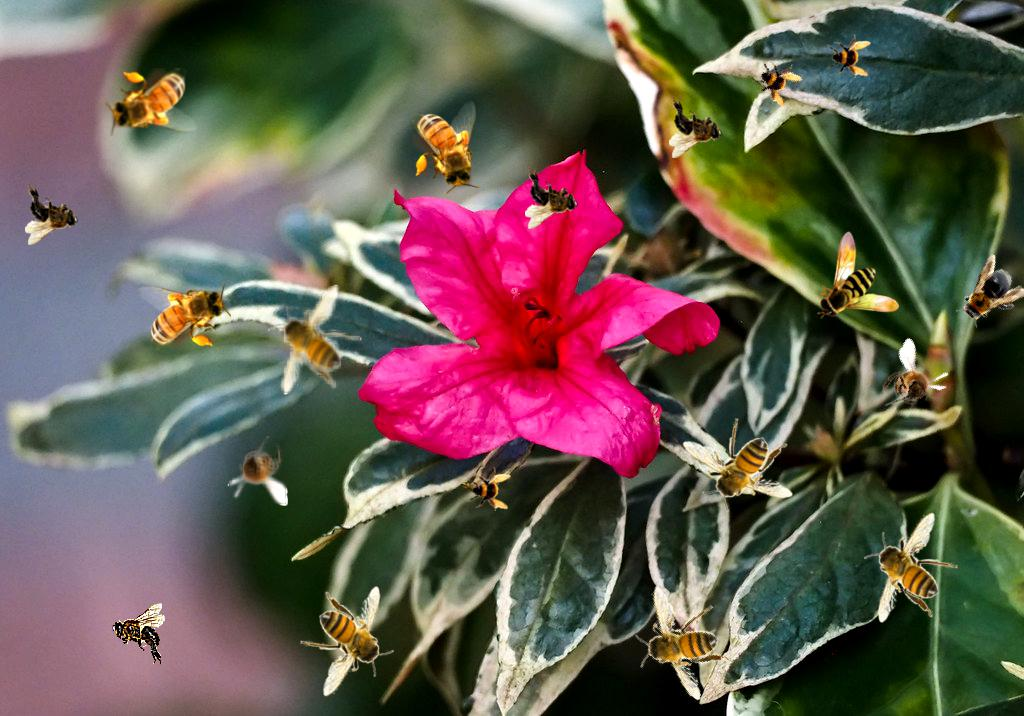Bee: (607, 567, 754, 713), (864, 512, 958, 623), (268, 284, 362, 395), (682, 418, 793, 512), (300, 586, 394, 697), (868, 336, 959, 430), (817, 231, 899, 319), (946, 253, 1024, 339), (138, 282, 231, 350), (412, 101, 480, 194), (105, 68, 198, 136), (227, 436, 288, 506), (747, 51, 807, 111), (112, 603, 165, 665), (25, 183, 78, 245), (669, 96, 722, 158), (525, 167, 578, 229), (466, 466, 512, 512), (827, 34, 871, 78)
